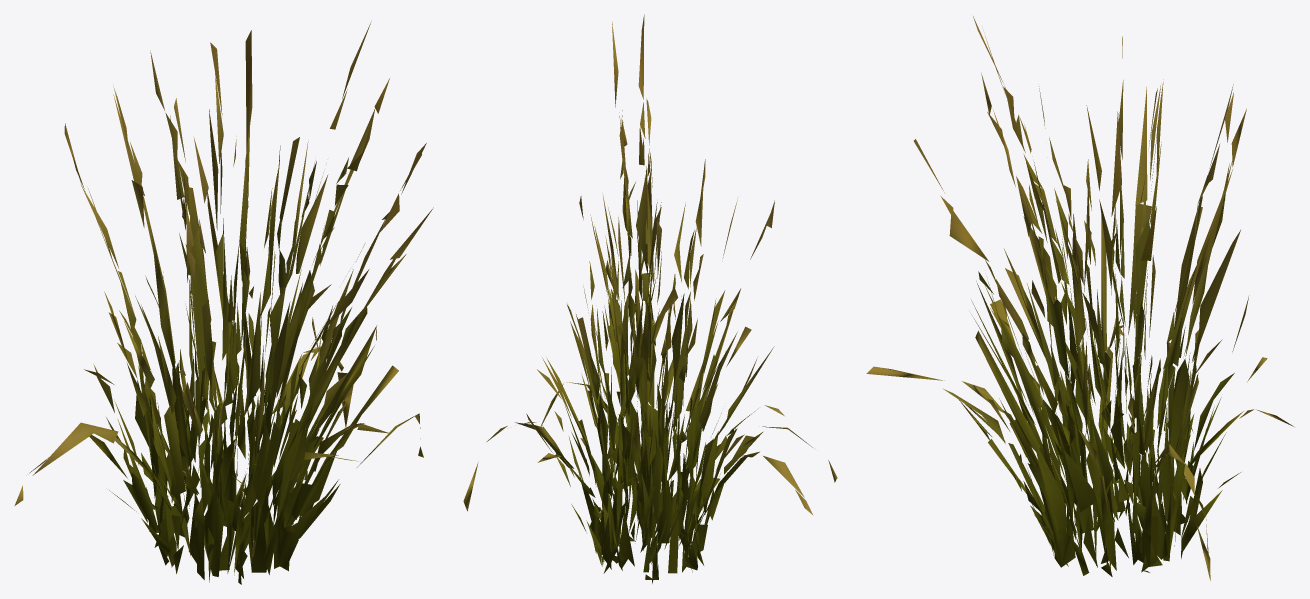
The model's file is desert_grass_fine_tall_lod1.glb.
3 renders of one model, left to right at view 1: azimuth 30°, elevation 25°; view 2: azimuth 150°, elevation 25°; view 3: azimuth 270°, elevation 25°, orthographic. The views are drawn at different scales.
Visible parts, largest first — view 1: desert_grass_fine_tall.001; view 2: desert_grass_fine_tall.001; view 3: desert_grass_fine_tall.001.
Boxes of the visible parts, x1,y1,x2,y2 form: desert_grass_fine_tall.001: (14,21,433,584); desert_grass_fine_tall.001: (463,14,837,583); desert_grass_fine_tall.001: (866,16,1293,580).
Bounding box in the file's own units: 0.797 × 1.17 × 0.7854.
1 material, 1 textured.
